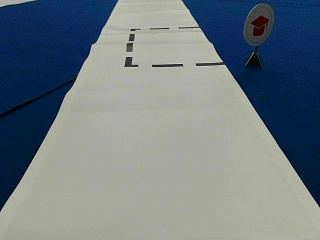school: (242, 3, 274, 45)
